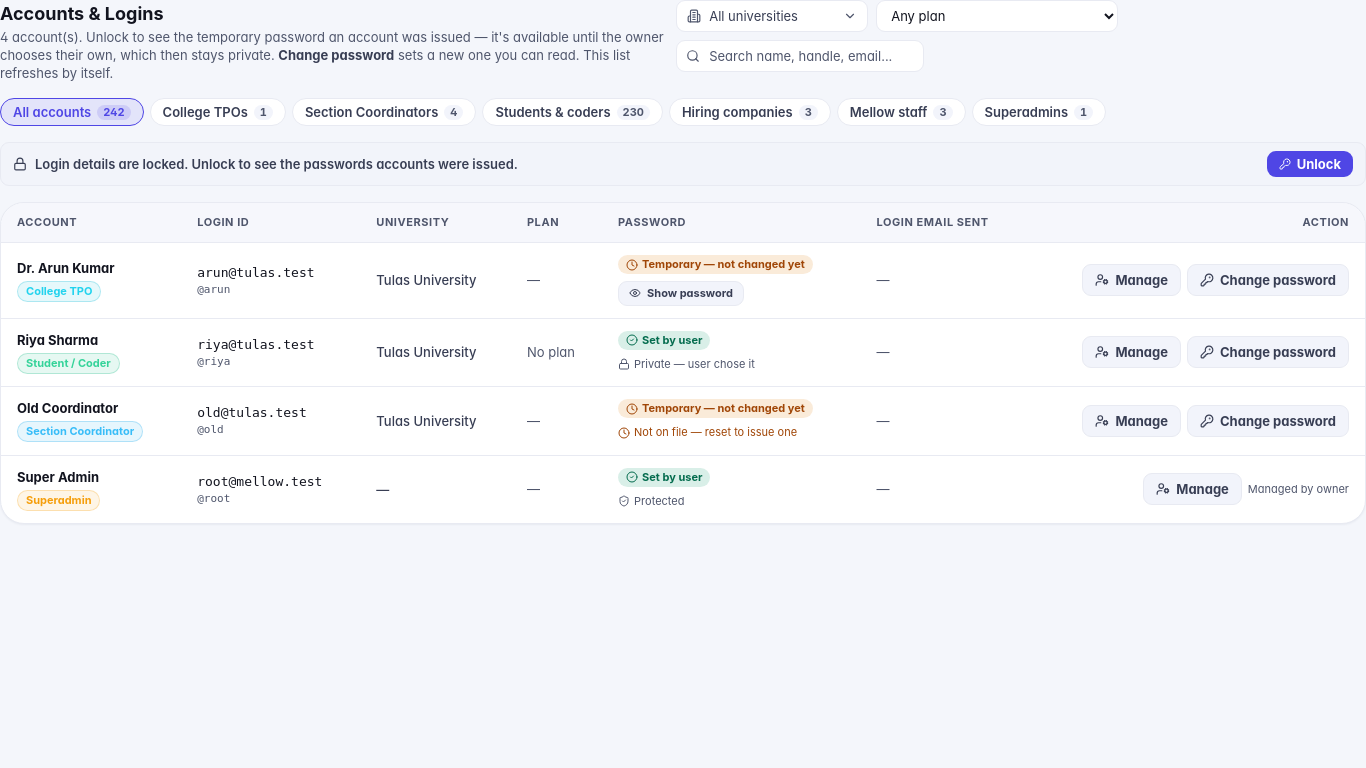
Test: issued logins › hides the password again on request
Expected: the text "Dr. Arun Kumar" is shown, [17, 260, 114, 276]
Click the button with aria-label "show dr. arun kumar's password". click: [681, 293]
box: [618, 280, 744, 306]
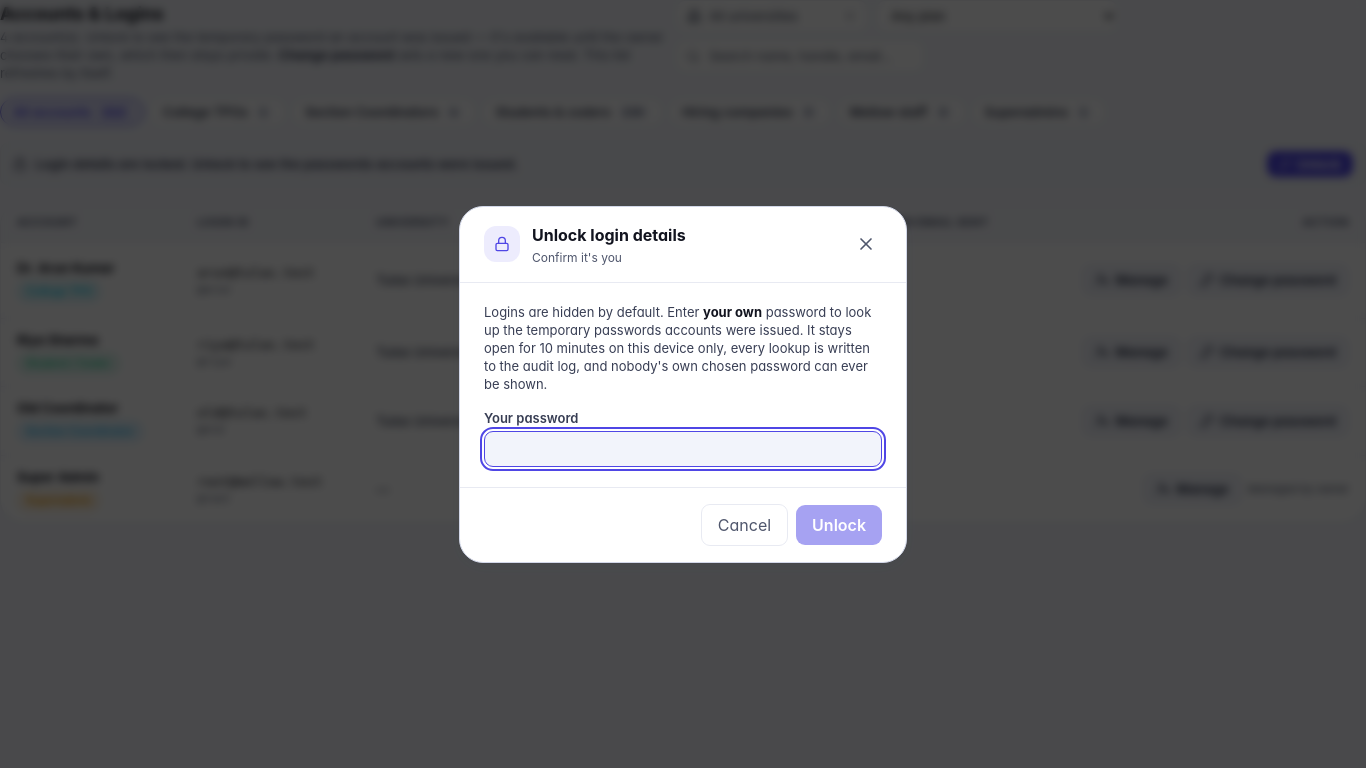
Type "pw" into the password field labelled "Your password". click: [683, 448]
box: [484, 430, 882, 466]
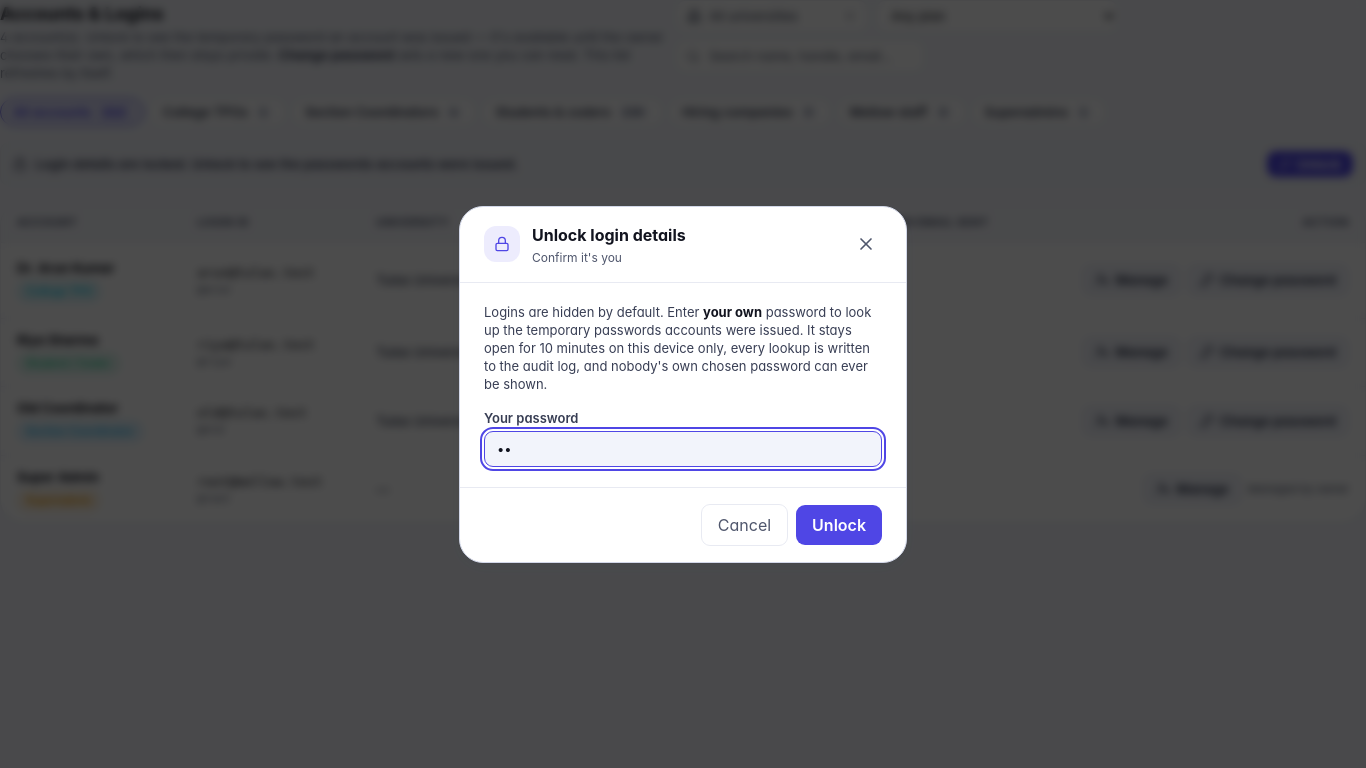
Click the button "Unlock". click: [839, 524]
box: [796, 504, 882, 544]
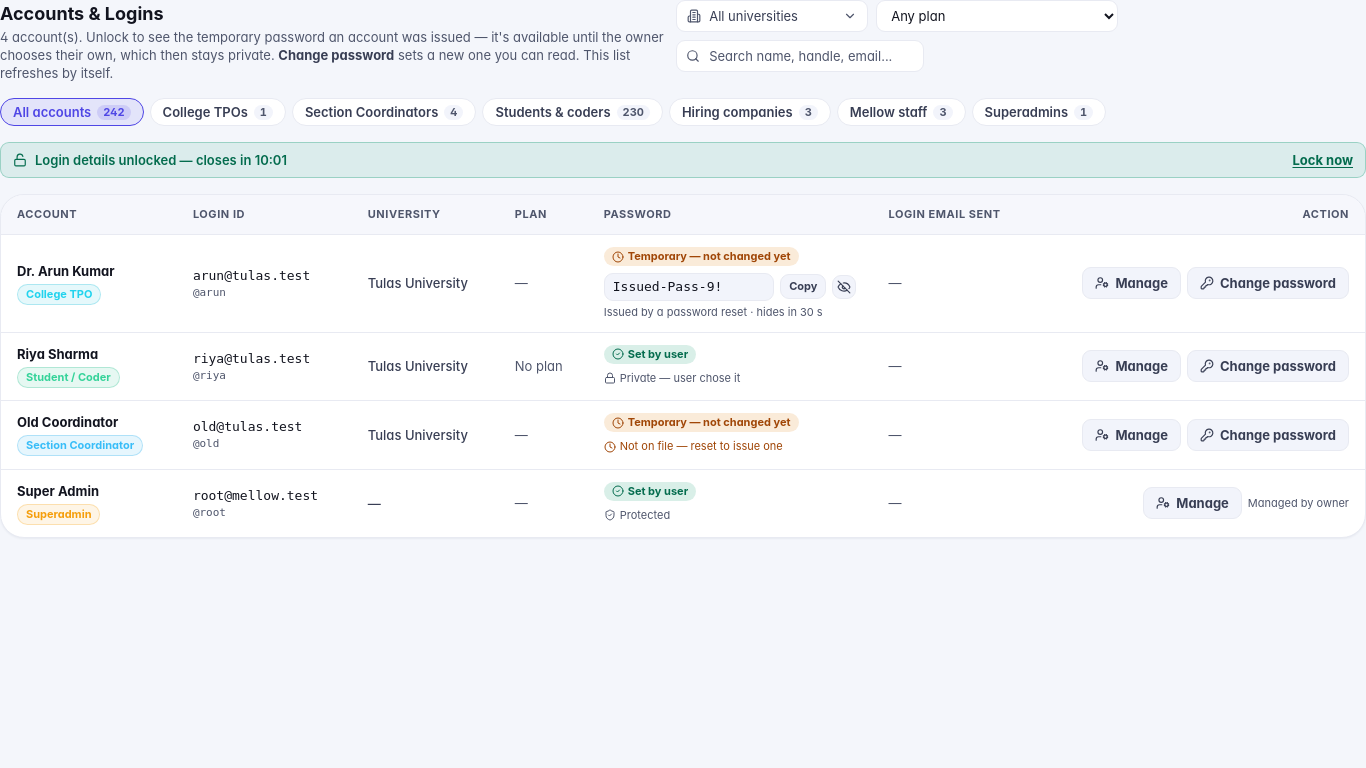
Expected: the text "Issued-Pass-9!" is shown, [604, 272, 774, 300]
Click the button named "hide dr. arun kumar's password". click: [844, 286]
box: [832, 274, 856, 298]
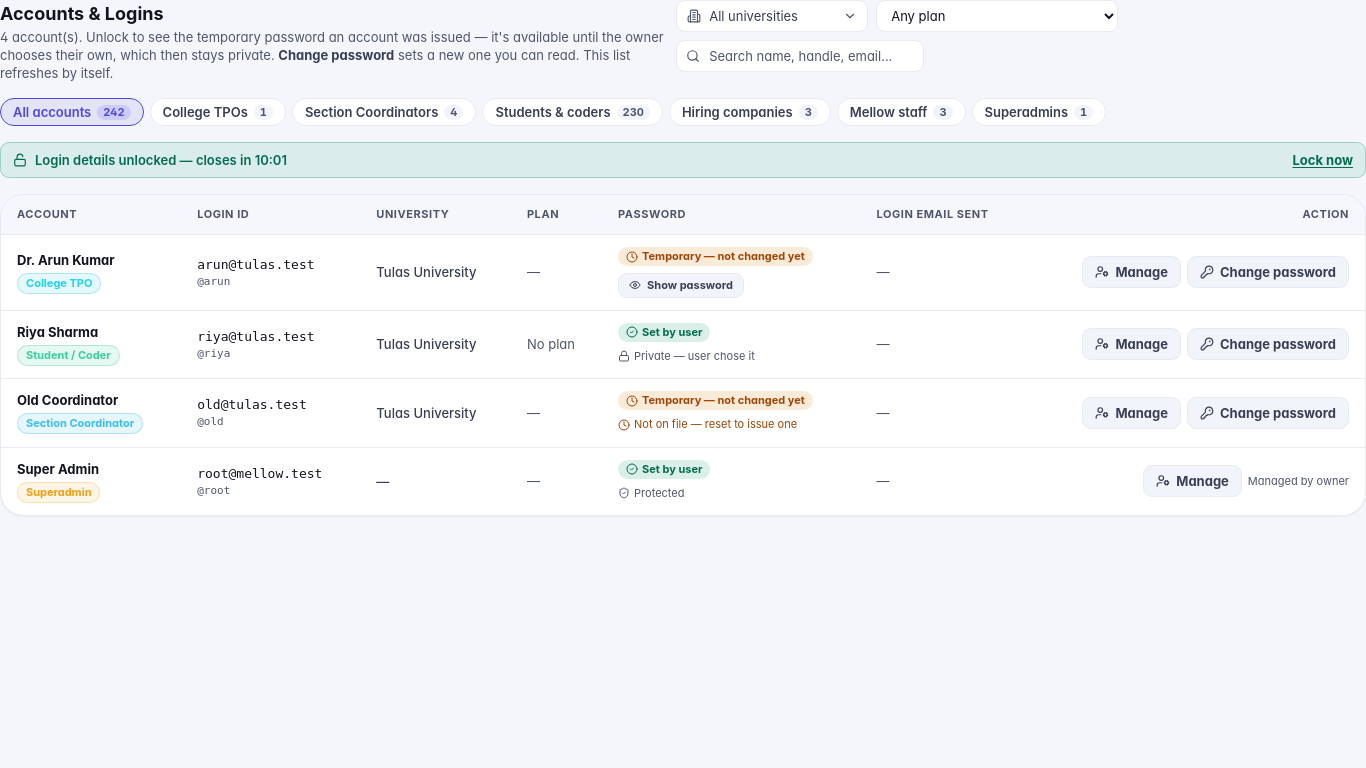
Expected: the text with test id "revealed-password-2" is gone
